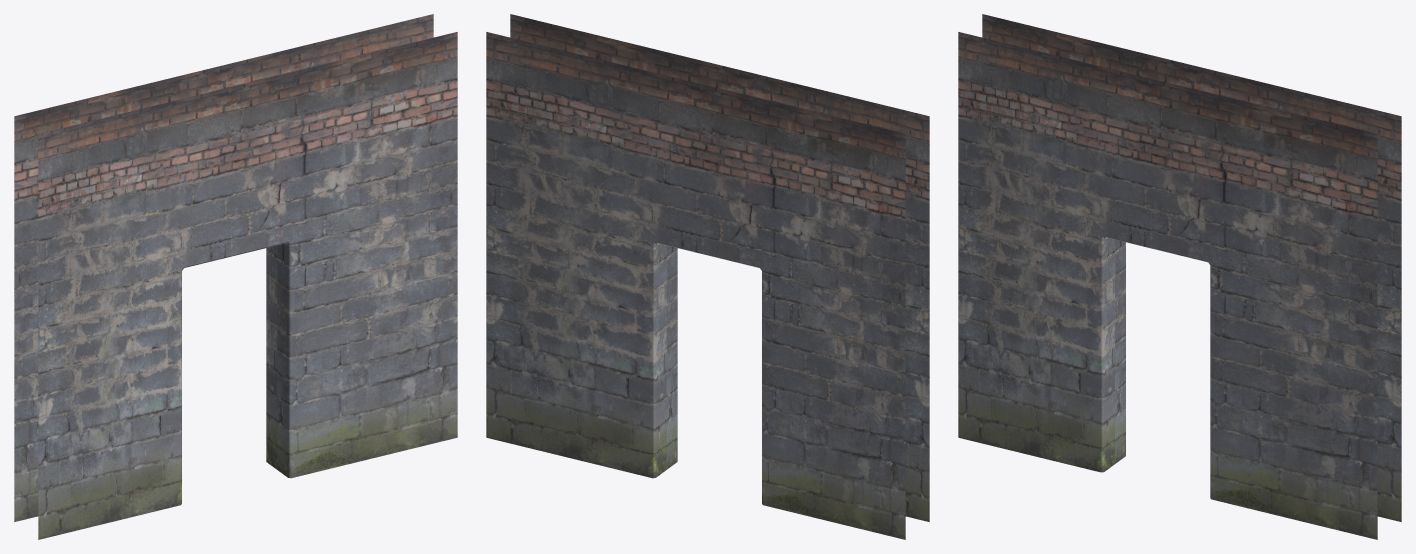
File: sm_Wall_06_26.fbx
The picture shows the model from 3 angles, left to right: view 1: azimuth 30°, elevation 25°; view 2: azimuth 150°, elevation 25°; view 3: azimuth 330°, elevation 25°; orthographic projection.
Parts seen in each view (by area): view 1: sm_Wall_06_26_LOD0; view 2: sm_Wall_06_26_LOD0; view 3: sm_Wall_06_26_LOD0.
Part boxes in pixels (x1,y1,x2,y2): sm_Wall_06_26_LOD0: (14,14,457,539); sm_Wall_06_26_LOD0: (486,14,929,539); sm_Wall_06_26_LOD0: (958,14,1401,539).
Size of the model in its own units: 40.31 by 400 by 370.
